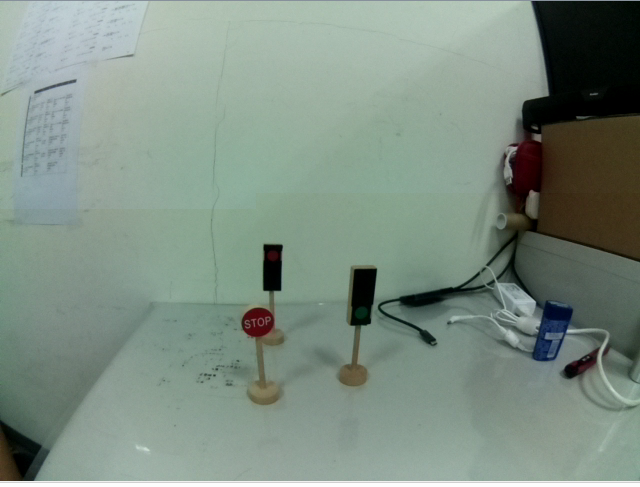Green: (343, 264, 380, 329)
Red: (259, 238, 287, 295)
Stop: (239, 302, 276, 342)
